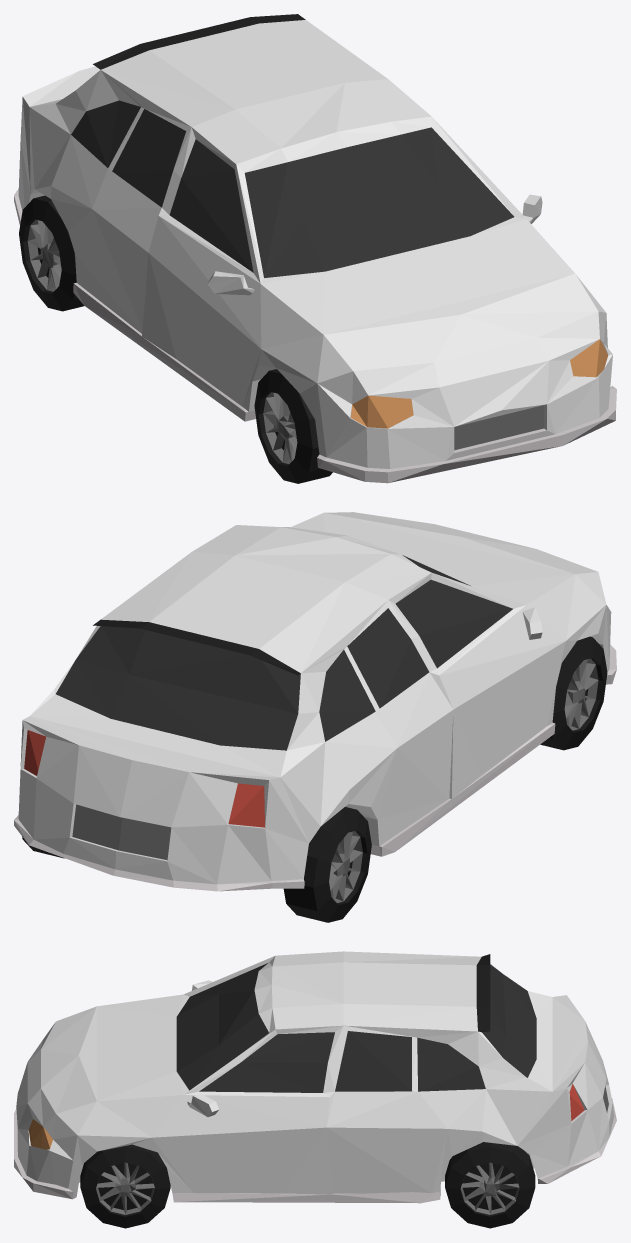
The model's file is car-b-neutral.glb.
3 views of the same model, one above another, from view 1: azimuth 30°, elevation 25°; view 2: azimuth 150°, elevation 25°; view 3: azimuth 270°, elevation 25° (orthographic). The views are drawn at different scales.
Parts seen in each view (by area): view 1: NormalCar2_Cube.002; view 2: NormalCar2_Cube.002; view 3: NormalCar2_Cube.002.
Boxes of the visible parts, box(x1,y1,x2,y2) form: NormalCar2_Cube.002: box(14, 14, 616, 483); NormalCar2_Cube.002: box(14, 512, 616, 922); NormalCar2_Cube.002: box(14, 951, 616, 1228).
Bounding box in the file's own units: 1.64 × 1.15 × 3.3.
1 material, 1 textured.
